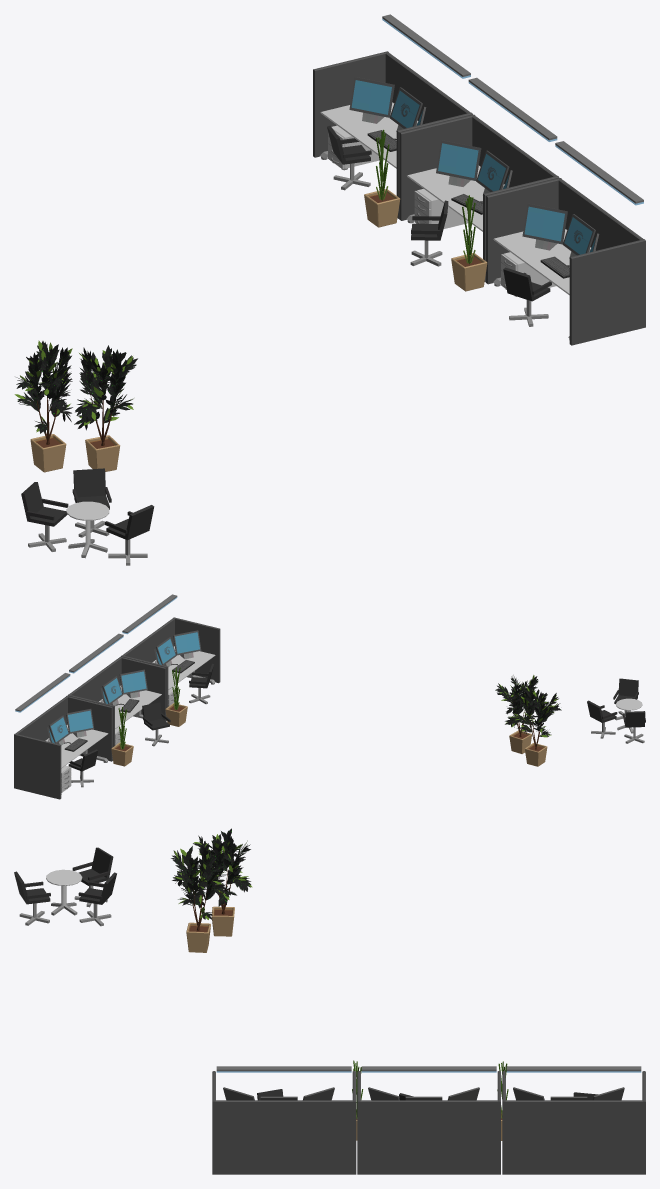
The model's file is d-roomcomp-l-server-in.glb.
3 renders of one model, top to bottom at view 1: azimuth 30°, elevation 25°; view 2: azimuth 150°, elevation 25°; view 3: azimuth 270°, elevation 25°, orthographic. The views are drawn at different scales.
Parts seen in each view (by area): view 1: d-roomcomp-l-server; view 2: d-roomcomp-l-server; view 3: d-roomcomp-l-server.
Boxes of the visible parts, x1,y1,x2,y2 form: d-roomcomp-l-server: (14, 14, 645, 565); d-roomcomp-l-server: (14, 594, 645, 799); d-roomcomp-l-server: (14, 828, 645, 1174).
Bounding box in the file's own units: 18.66 × 3.23 × 17.58.
Materials: 3 (3 with a texture image).
